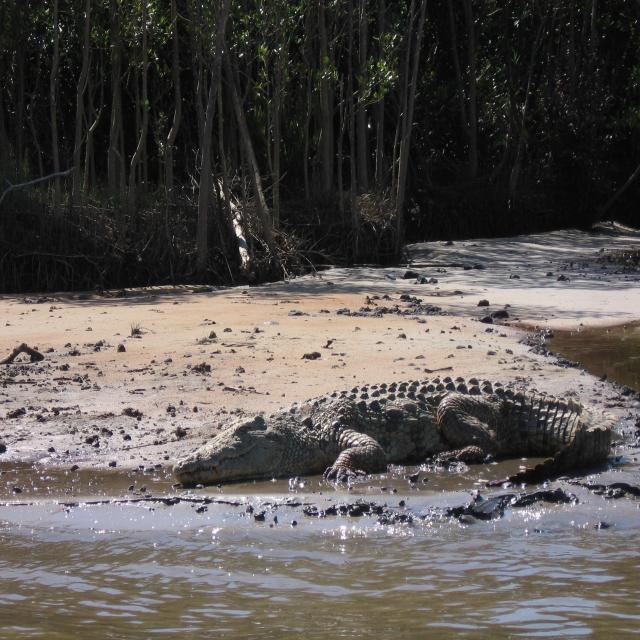crocodile: (149, 362, 633, 518)
